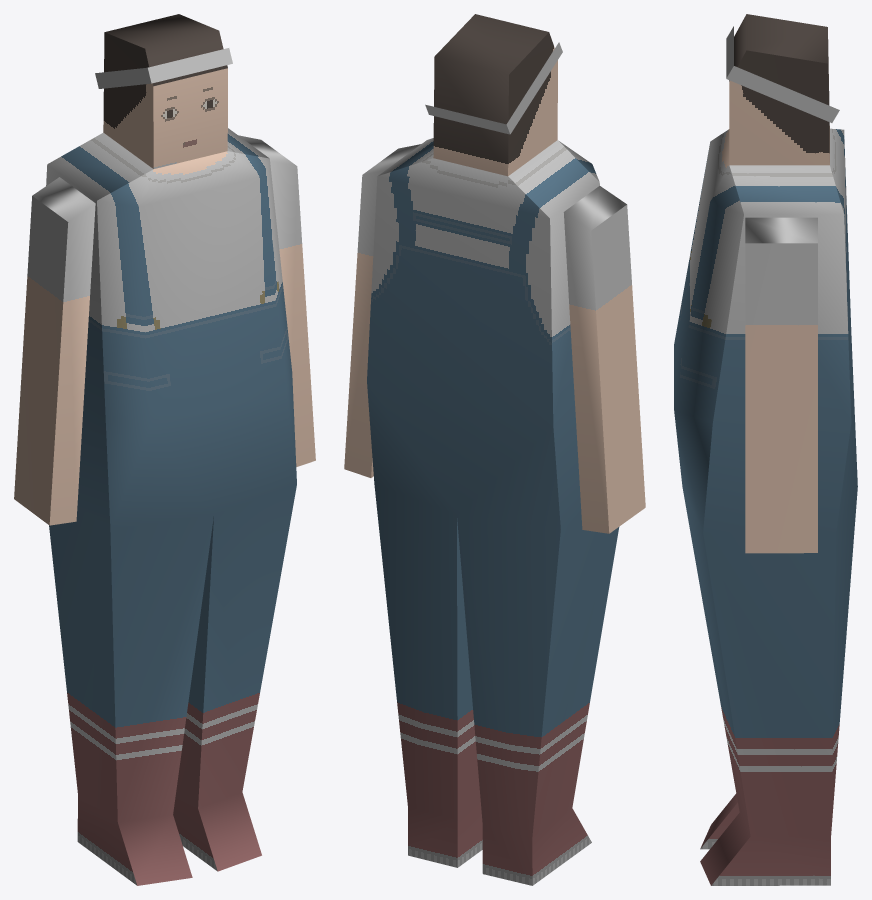
Rendered from 0413_Old_Salt.glb.
3 renders of one model, left to right at view 1: azimuth 30°, elevation 25°; view 2: azimuth 150°, elevation 25°; view 3: azimuth 270°, elevation 25°, orthographic.
Visible parts, largest first — view 1: part_0; view 2: part_0; view 3: part_0.
Part boxes in pixels (<box>): part_0: <box>14,14,315,885</box>; part_0: <box>344,14,645,885</box>; part_0: <box>674,14,857,885</box>.
Size of the model in its own units: 0.6271 by 1.84 by 0.3724.
1 material, 1 textured.
